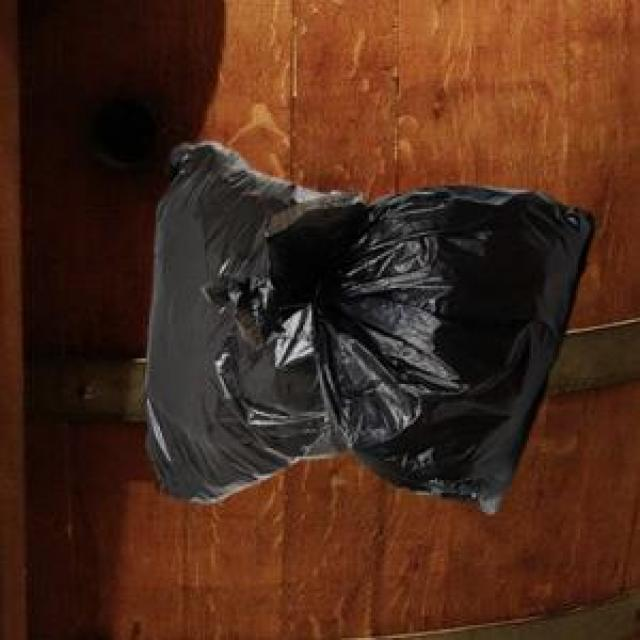Vinyl: (146, 145, 592, 509)
